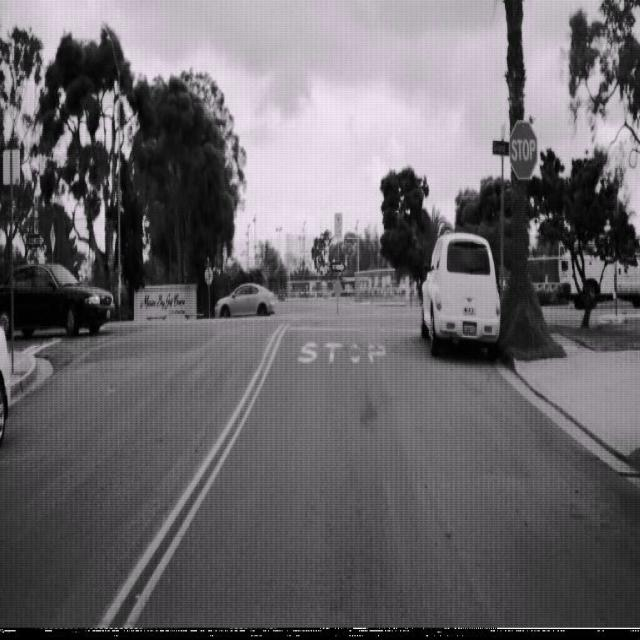stop_sign: (508, 119, 538, 180)
